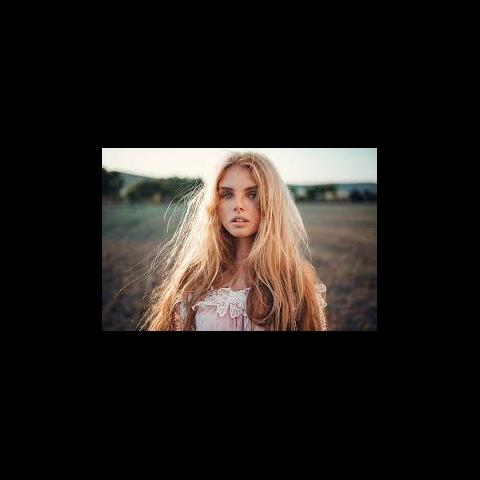opened: (212, 184, 265, 204)
